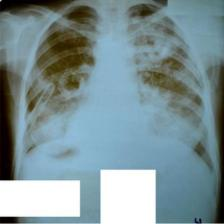tuberculosis: (5, 1, 224, 181)
